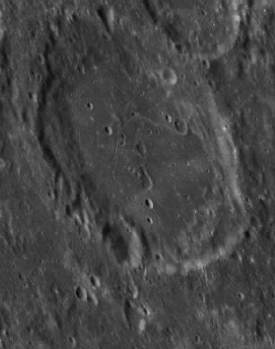crater: (13, 4, 265, 318)
